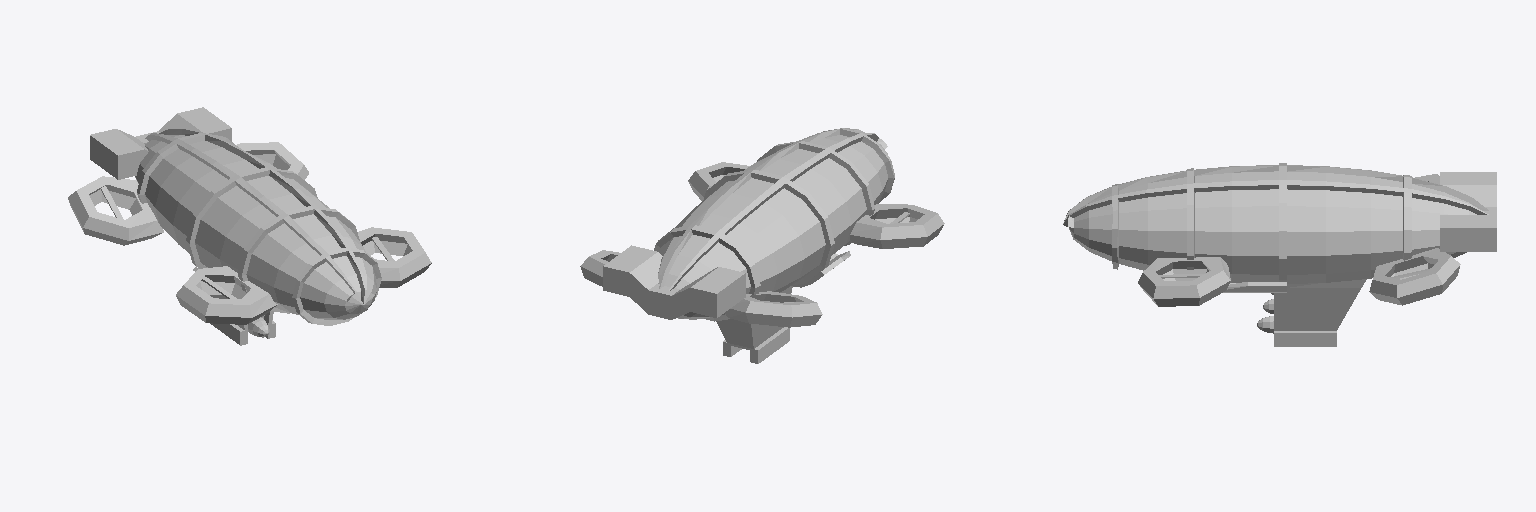
File: DreadNaught.obj
3 views of the same model, side by side, from view 1: azimuth 30°, elevation 25°; view 2: azimuth 150°, elevation 25°; view 3: azimuth 270°, elevation 25° (orthographic).
Parts seen in each view (by area): view 1: pTorus19; view 2: pTorus19; view 3: pTorus19.
Boxes of the visible parts, <box> form: pTorus19: <box>68,107,431,345</box>; pTorus19: <box>580,128,944,363</box>; pTorus19: <box>1063,163,1496,346</box>.
Size of the model in its own units: 5.03 by 3.32 by 7.88.